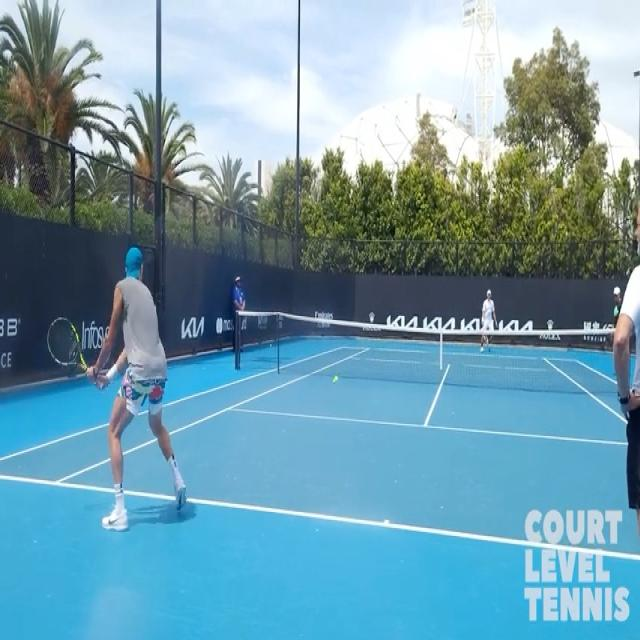backhand-ready: (46, 242, 192, 534)
